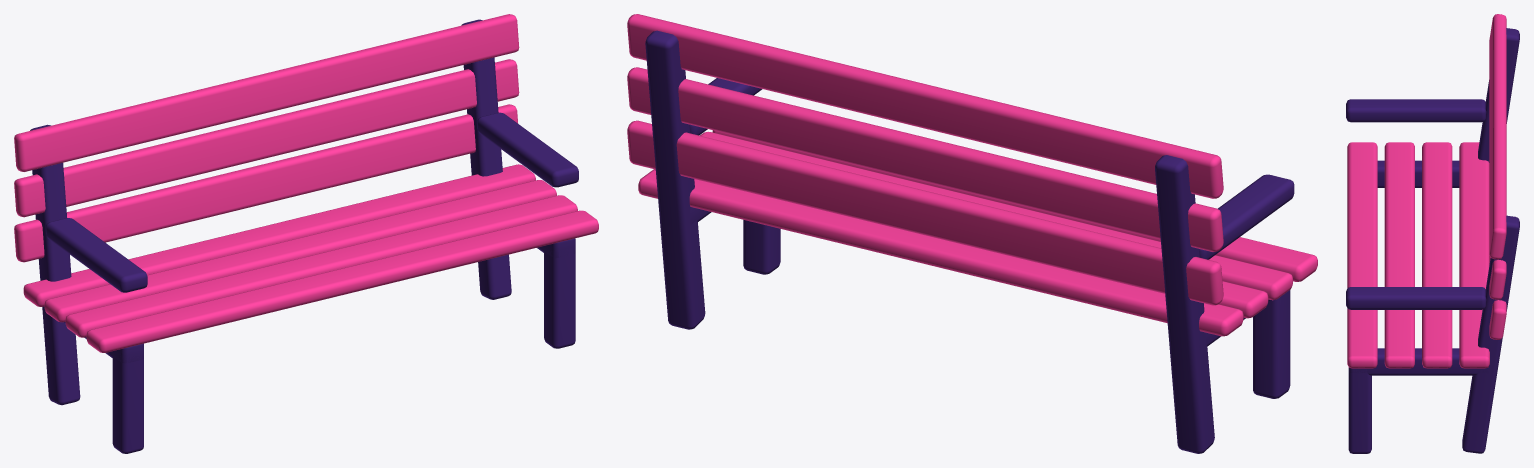
Rendered from bench.glb.
3 views of the same model, side by side, from view 1: azimuth 30°, elevation 25°; view 2: azimuth 150°, elevation 25°; view 3: azimuth 270°, elevation 25° (orthographic). The views are drawn at different scales.
Parts seen in each view (by area): view 1: Bench; view 2: Bench; view 3: Bench.
Part boxes in pixels (box(x1,y1,x2,y2)): Bench: box(14, 14, 598, 453); Bench: box(627, 14, 1317, 453); Bench: box(1346, 14, 1519, 453).
Size of the model in its own units: 2.2 by 1.12 by 0.7433.
